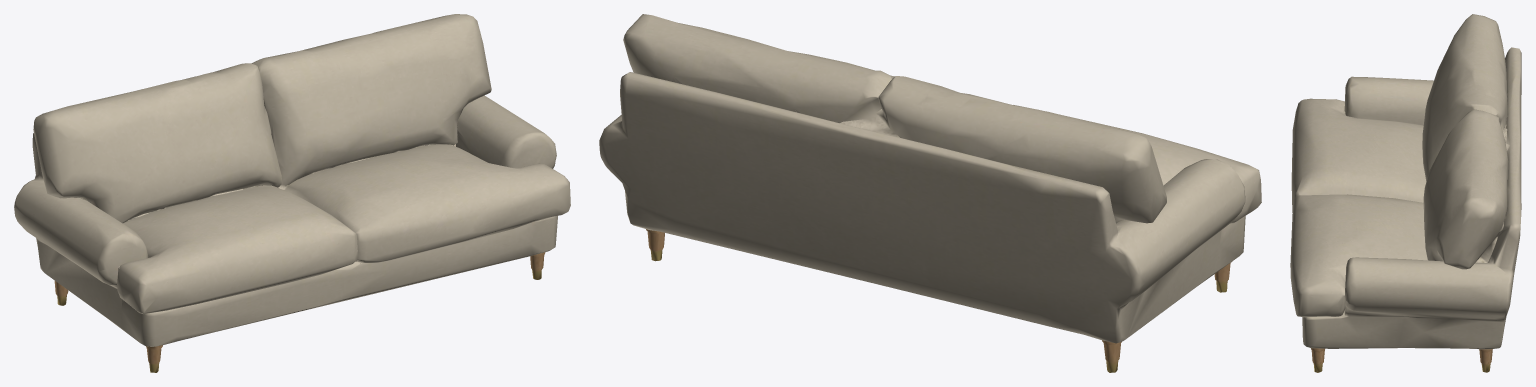
The model's file is valnas_sofa_dwuosobowa_09615320.glb.
3 renders of one model, left to right at view 1: azimuth 30°, elevation 25°; view 2: azimuth 150°, elevation 25°; view 3: azimuth 270°, elevation 25°, orthographic. The views are drawn at different scales.
Visible parts, largest first — view 1: valnas_sofa_dwuosobowa_09615320; view 2: valnas_sofa_dwuosobowa_09615320; view 3: valnas_sofa_dwuosobowa_09615320.
Part boxes in pixels (left/top/right/bottom): valnas_sofa_dwuosobowa_09615320: left=14, top=14, right=570, bottom=372; valnas_sofa_dwuosobowa_09615320: left=599, top=14, right=1261, bottom=372; valnas_sofa_dwuosobowa_09615320: left=1290, top=14, right=1521, bottom=372.
Size of the model in its own units: 2.06 by 0.8508 by 0.9876.
1 material, 1 textured.
